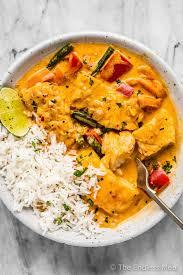Dhal Curry: (48, 37, 179, 233)
